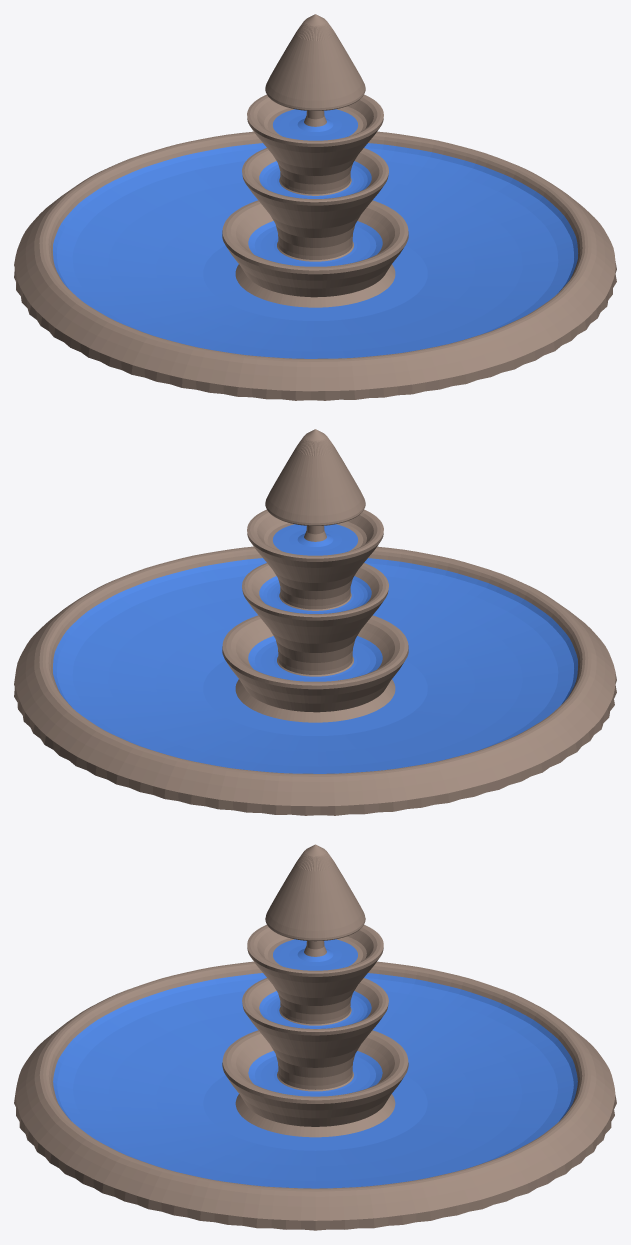
The model's file is Fountain.fbx.
The picture shows the model from 3 angles, top to bottom: view 1: azimuth 30°, elevation 25°; view 2: azimuth 150°, elevation 25°; view 3: azimuth 270°, elevation 25°; orthographic projection.
Visible parts, largest first — view 1: Cylinder; view 2: Cylinder; view 3: Cylinder.
Boxes of the visible parts, x1,y1,x2,y2 form: Cylinder: (14, 14, 616, 400); Cylinder: (14, 429, 616, 815); Cylinder: (14, 844, 616, 1230).
Bounding box in the file's own units: 1136 × 559 × 1136.
